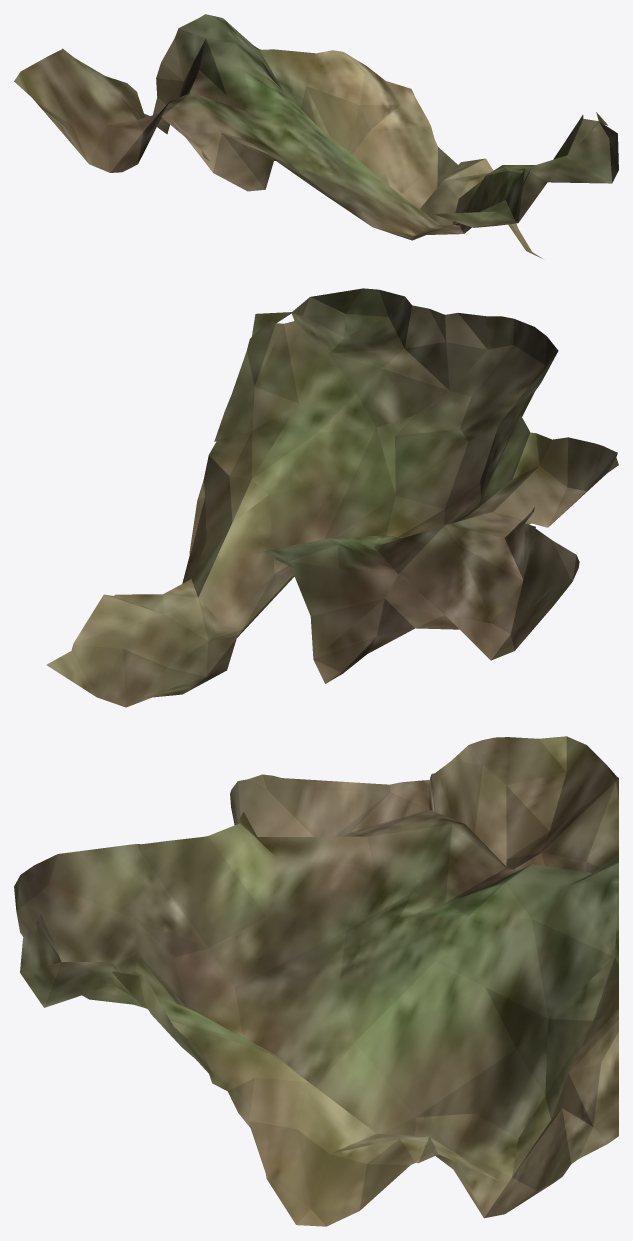
3 renders of one model, top to bottom at view 1: azimuth 30°, elevation 25°; view 2: azimuth 150°, elevation 25°; view 3: azimuth 270°, elevation 25°, orthographic. The views are drawn at different scales.
Size of the model in its own units: 1.04 by 0.4995 by 1.07.
Materials: 1 (1 with a texture image).
